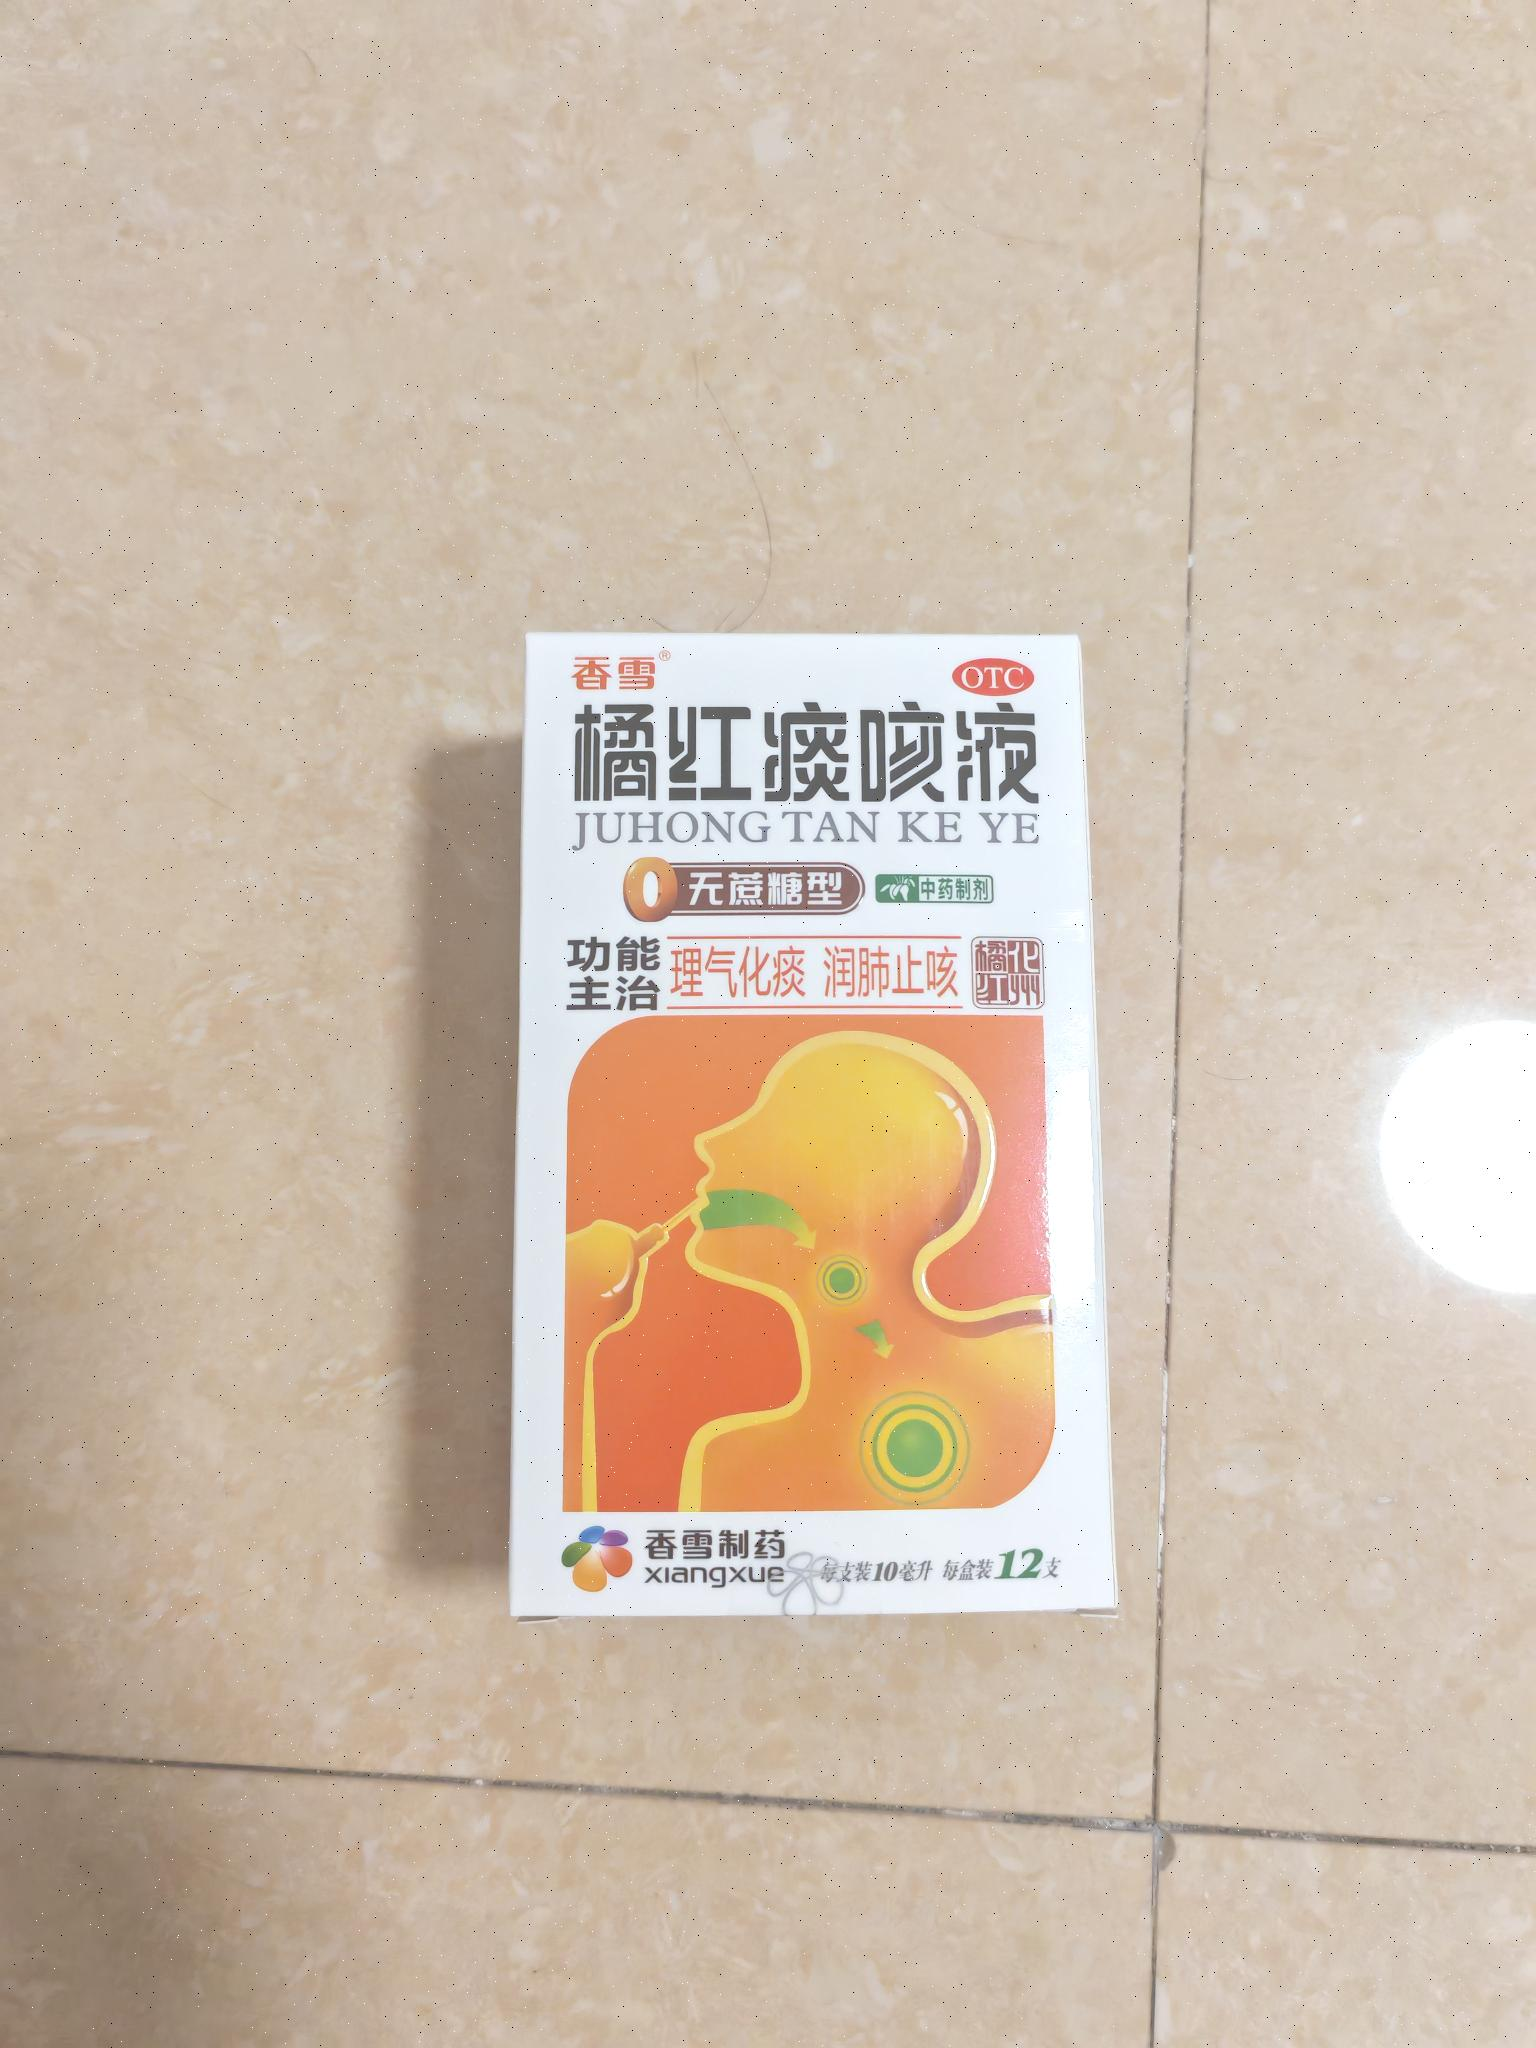Medicine1: (495, 614, 1146, 1658)
